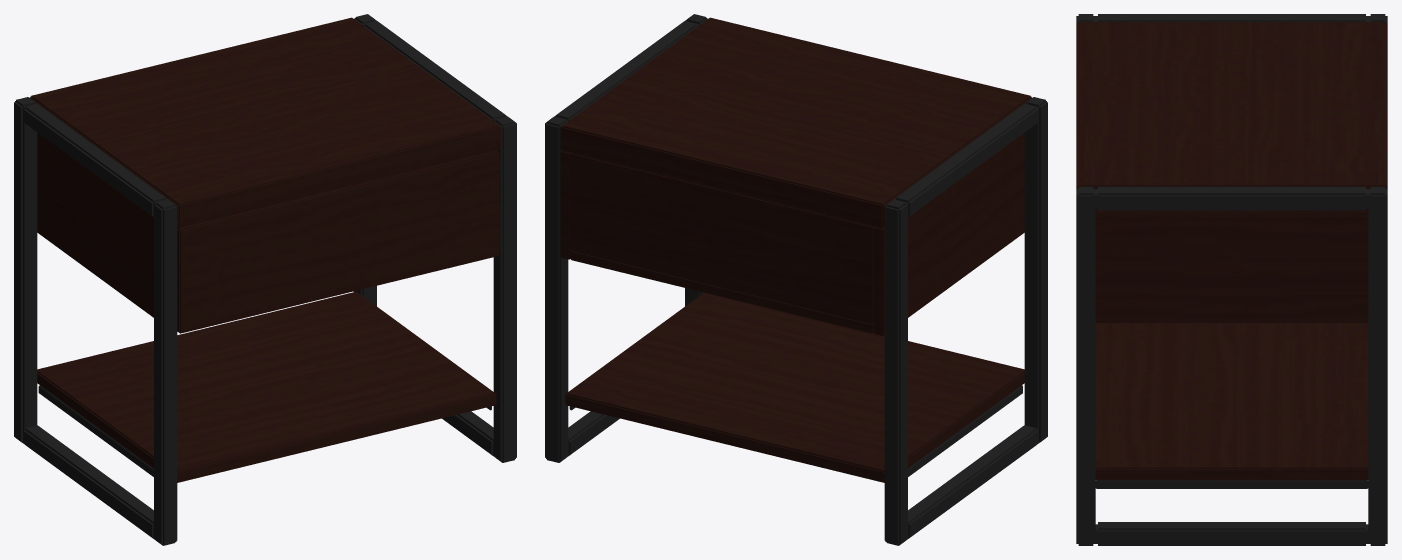
The picture shows the model from 3 angles, left to right: view 1: azimuth 30°, elevation 25°; view 2: azimuth 150°, elevation 25°; view 3: azimuth 270°, elevation 25°; orthographic projection. The views are drawn at different scales.
Parts seen in each view (by area): view 1: qaztac, xcm_laci; view 2: qaztac; view 3: qaztac.
Part boxes in pixels (x1,y1,x2,y2): qaztac: (14, 14, 516, 545); xcm_laci: (177, 151, 499, 333); qaztac: (545, 14, 1047, 545); qaztac: (1076, 14, 1387, 545).
Bounding box in the file's own units: 0.55 × 0.5 × 0.4.
2 materials, 1 textured.
